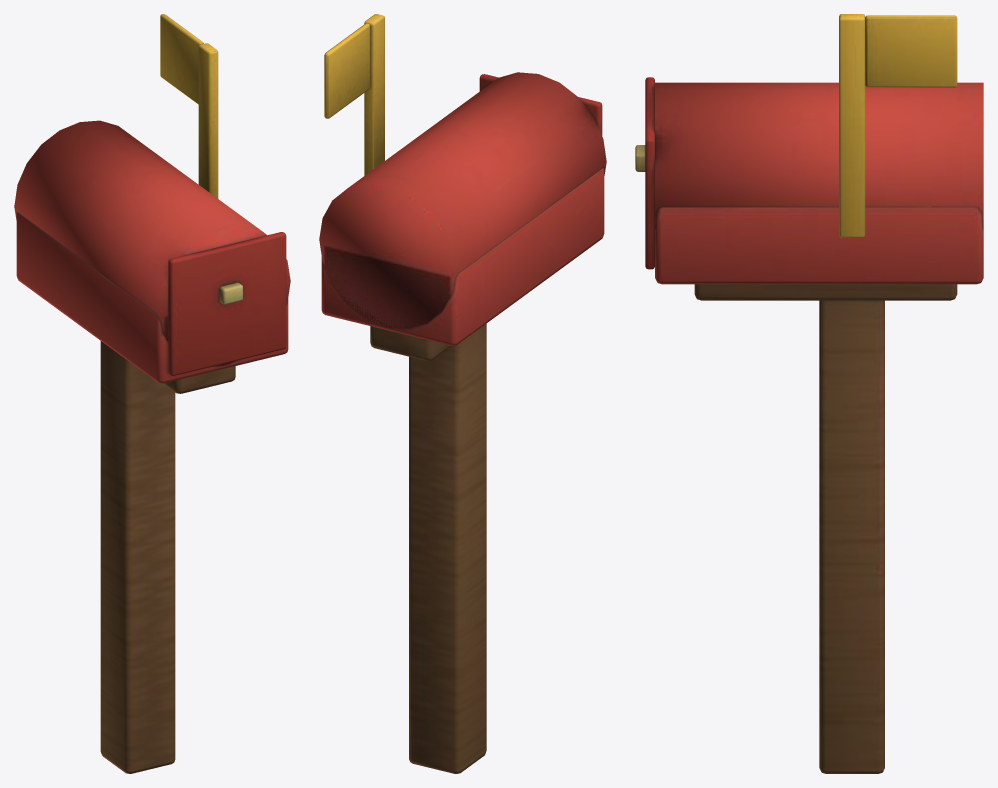
File: mailbox_red.glb
3 renders of one model, left to right at view 1: azimuth 30°, elevation 25°; view 2: azimuth 150°, elevation 25°; view 3: azimuth 270°, elevation 25°, orthographic. The views are drawn at different scales.
Parts seen in each view (by area): view 1: mailbox_red, mailbox_red_flag; view 2: mailbox_red, mailbox_red_flag; view 3: mailbox_red, mailbox_red_flag.
Part boxes in pixels (box(x1,y1,x2,y2)): mailbox_red: box(14, 120, 290, 773); mailbox_red_flag: box(160, 14, 218, 198); mailbox_red: box(319, 72, 606, 773); mailbox_red_flag: box(324, 14, 384, 175); mailbox_red: box(635, 77, 983, 773); mailbox_red_flag: box(839, 14, 957, 237).
Size of the model in its own units: 0.28 by 1.32 by 0.53.
5 materials, 5 textured.
